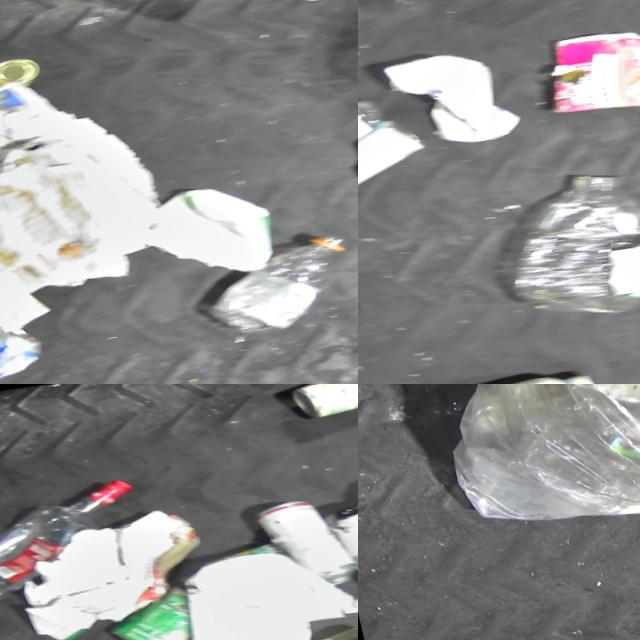can: (249, 486, 358, 596), (358, 102, 437, 228), (97, 577, 196, 640), (0, 313, 45, 384), (285, 384, 358, 421), (0, 49, 42, 91)
milk_jug: (373, 33, 529, 154), (129, 169, 282, 286)
plastic_bottle: (482, 151, 640, 325), (0, 470, 154, 618), (184, 220, 358, 339), (358, 86, 394, 186)
